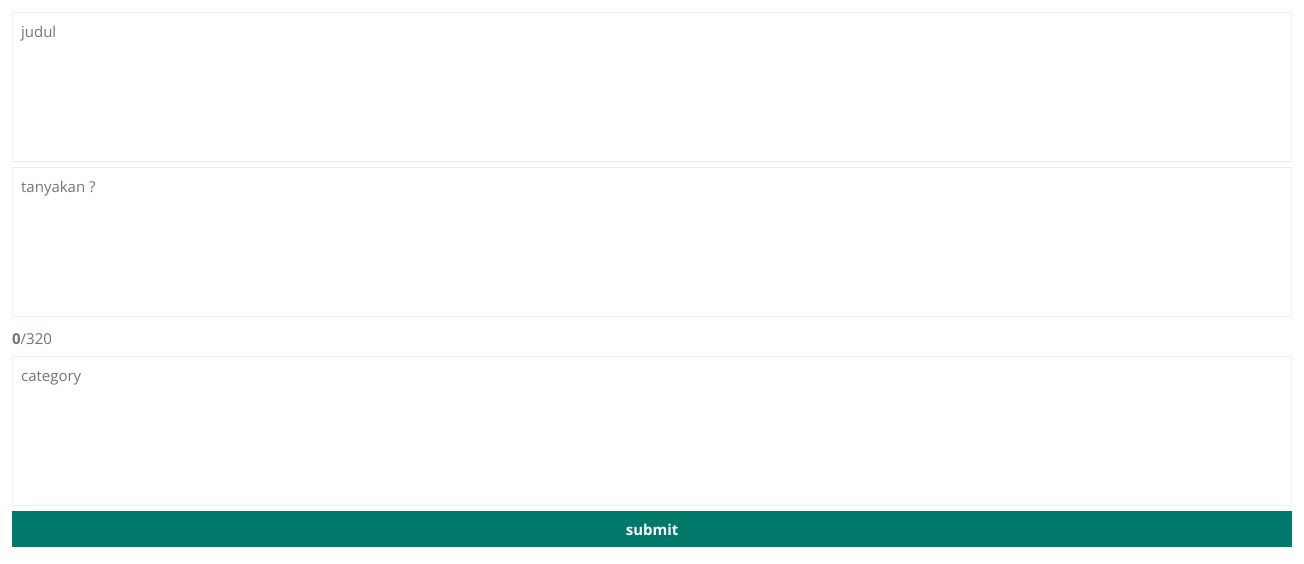
Test case: ThreadInput component › should display character count correctly
Type "This is a test body" into the text box with placeholder "tanyakan ?". click: (652, 242)
box: [12,167,1292,317]
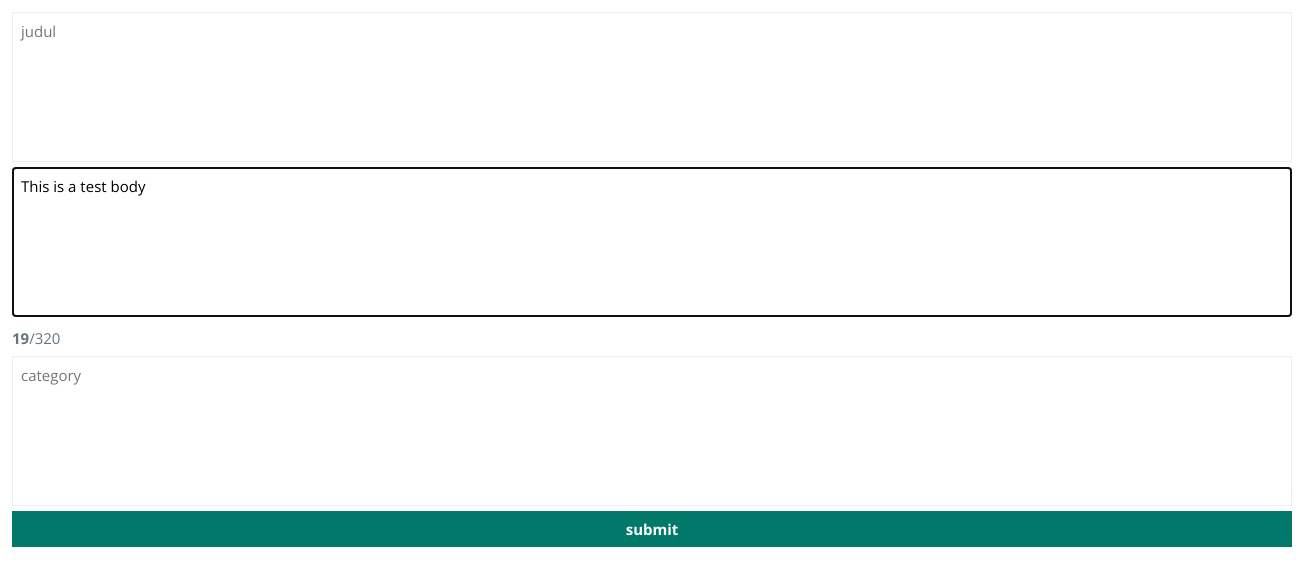
Result: the text "19/320" is shown at [12,328,60,348]
